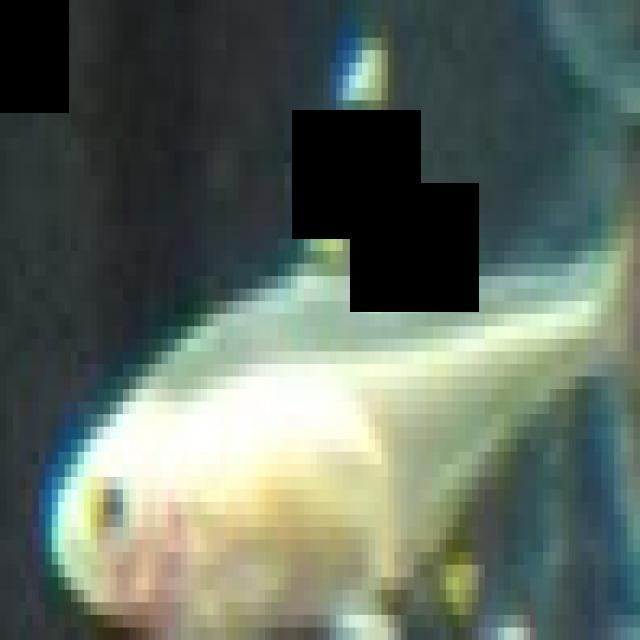fish: (6, 12, 639, 640)
